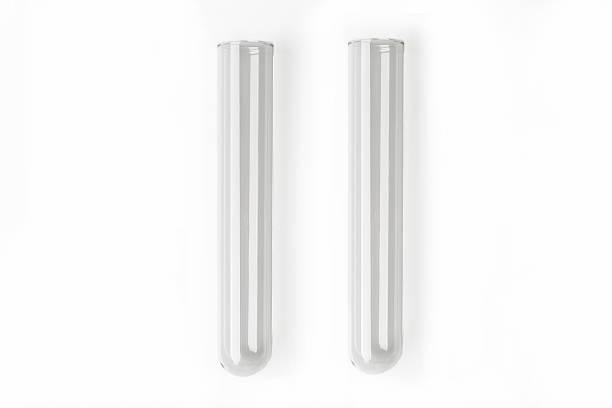Test tube: (341, 27, 407, 375), (215, 41, 274, 372)
